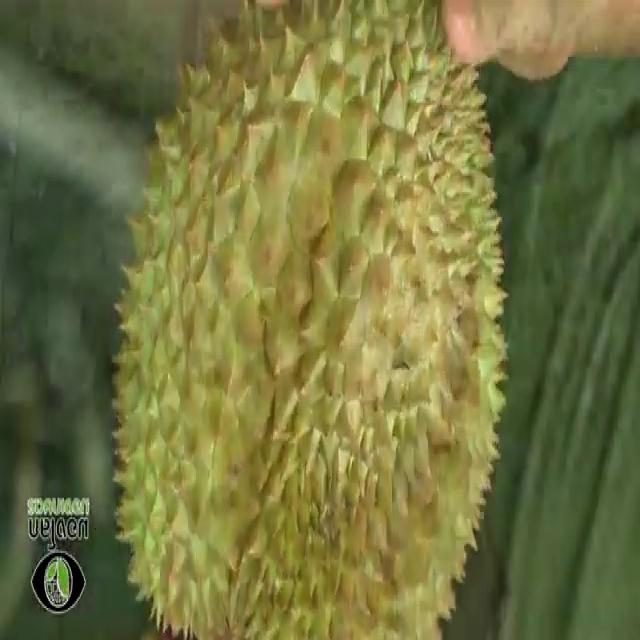durian: (104, 2, 511, 637)
